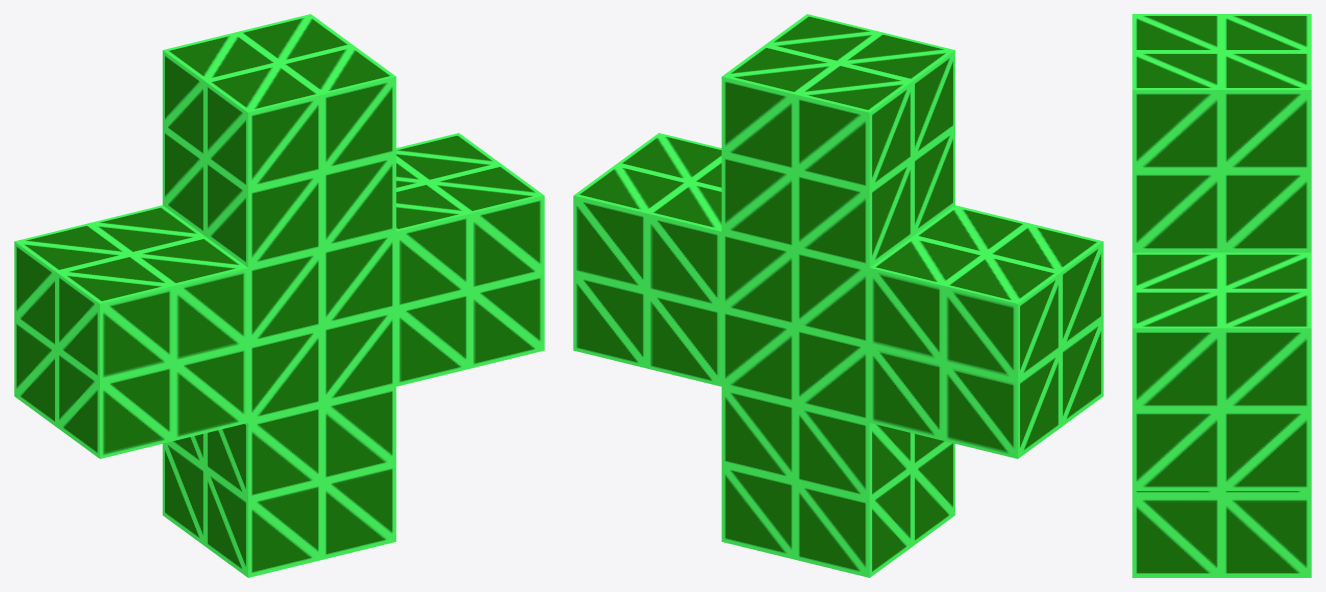
The model's file is health.glb.
3 renders of one model, left to right at view 1: azimuth 30°, elevation 25°; view 2: azimuth 150°, elevation 25°; view 3: azimuth 270°, elevation 25°, orthographic. The views are drawn at different scales.
Parts seen in each view (by area): view 1: Health; view 2: Health; view 3: Health.
Part boxes in pixels (left/top/right/bottom): Health: left=14, top=14, right=544, bottom=577; Health: left=573, top=14, right=1103, bottom=577; Health: left=1132, top=14, right=1311, bottom=577.
Bounding box in the file's own units: 0.6 × 0.6 × 0.2.
1 material, 1 textured.
